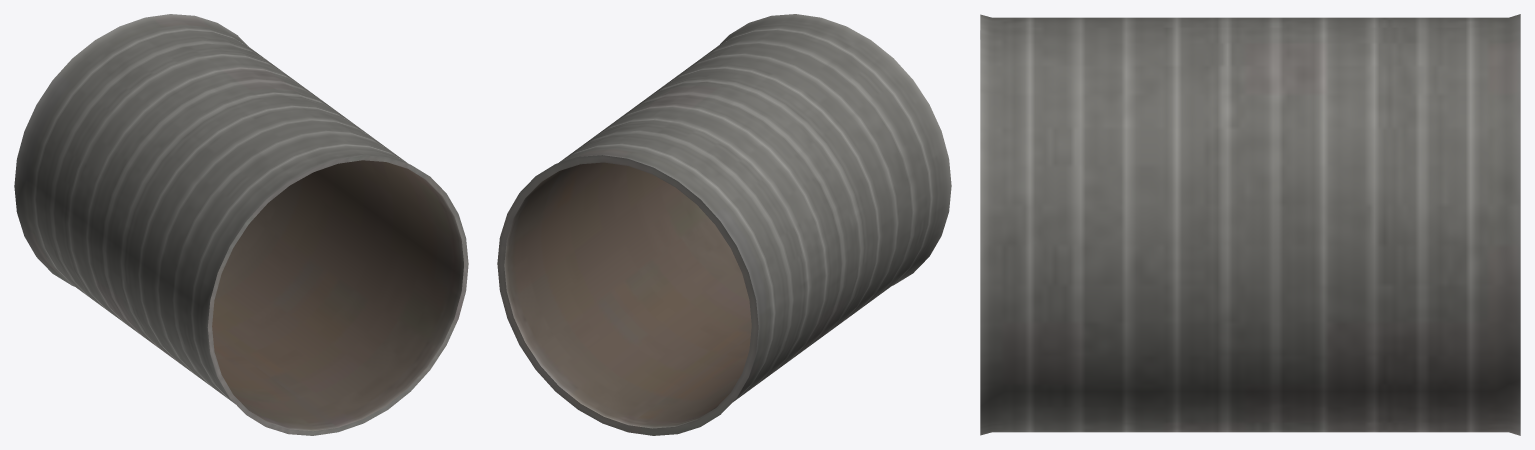
Rendered from circular_single.gltf.
3 views of the same model, side by side, from view 1: azimuth 30°, elevation 25°; view 2: azimuth 150°, elevation 25°; view 3: azimuth 270°, elevation 25° (orthographic). The views are drawn at different scales.
Visible parts, largest first — view 1: circular_single; view 2: circular_single; view 3: circular_single.
Part boxes in pixels (<box>): circular_single: <box>14,14,468,435</box>; circular_single: <box>497,14,951,435</box>; circular_single: <box>980,14,1520,435</box>.
Bounding box in the file's own units: 0.3704 × 0.3707 × 0.4742.
1 material, 1 textured.
